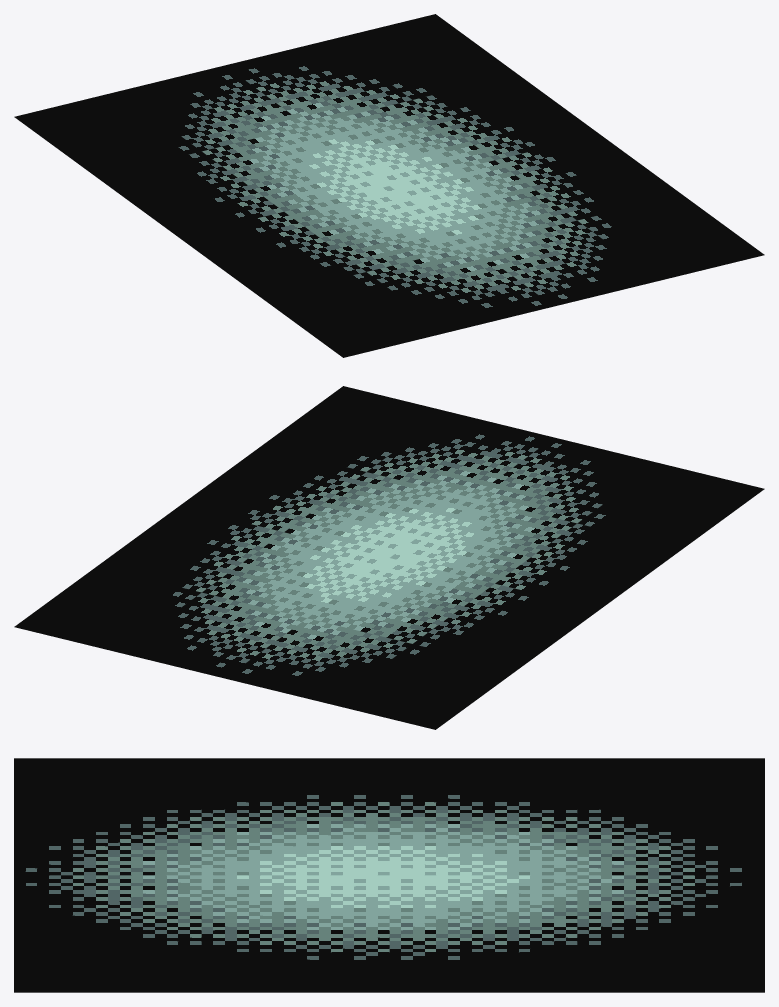
Rendered from light_pool.gltf.
3 views of the same model, one above another, from view 1: azimuth 30°, elevation 25°; view 2: azimuth 150°, elevation 25°; view 3: azimuth 270°, elevation 25° (orthographic). The views are drawn at different scales.
Visible parts, largest first — view 1: light_pool; view 2: light_pool; view 3: light_pool.
Boxes of the visible parts, x1=… form: light_pool: x1=14, y1=14, x2=764, y2=357; light_pool: x1=14, y1=386, x2=764, y2=729; light_pool: x1=14, y1=758, x2=764, y2=992.
Size of the model in its own units: 6.8 by 0 by 9.2.
Materials: 1 (1 with a texture image).
